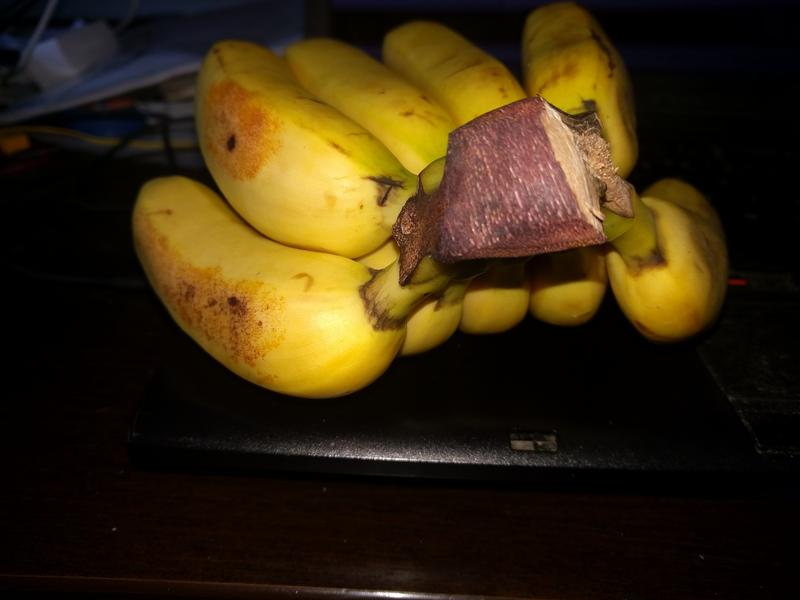banana: (114, 1, 762, 403)
